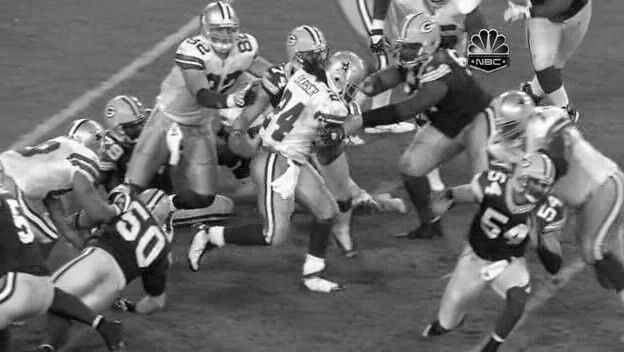person: (328, 53, 366, 100), (327, 53, 365, 100), (329, 53, 367, 100), (328, 52, 366, 99), (328, 54, 366, 101)
target_negative: (32, 112, 339, 202), (426, 87, 564, 275), (314, 55, 511, 169), (401, 170, 512, 310), (388, 39, 394, 277), (617, 35, 619, 38)
